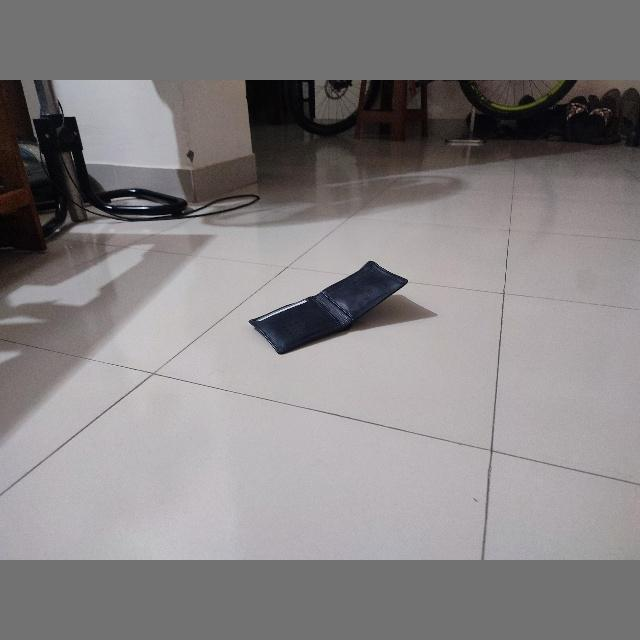Wallet: (249, 260, 409, 356)
